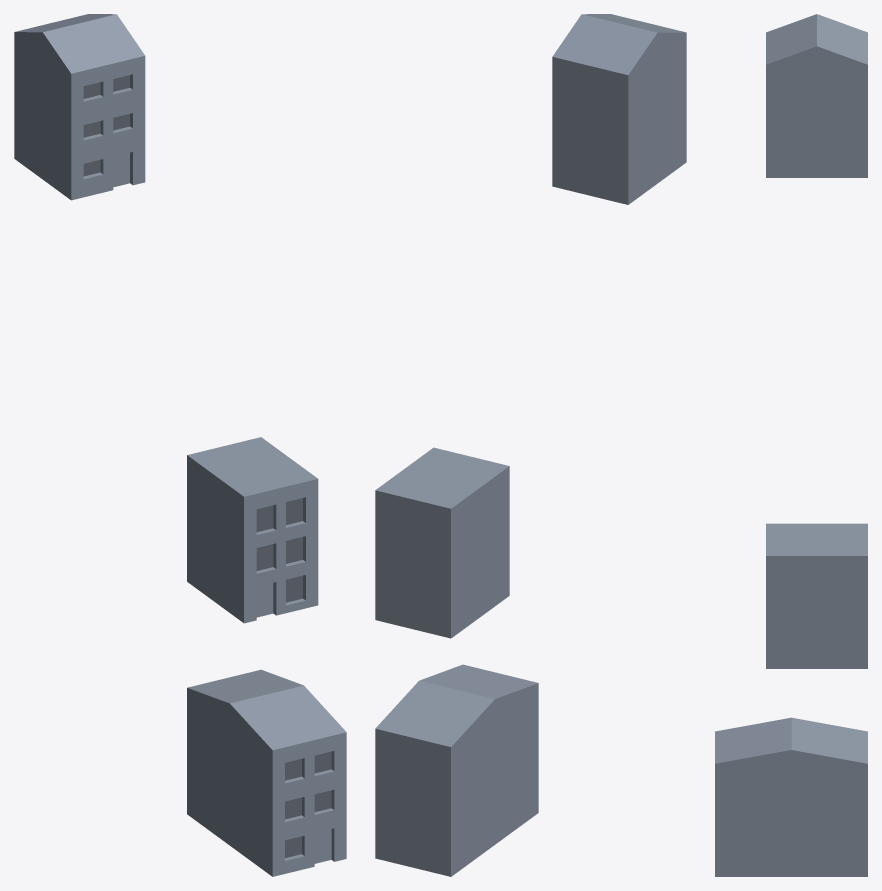
Rendered from BinaGrup4.gltf.
The picture shows the model from 3 angles, left to right: view 1: azimuth 30°, elevation 25°; view 2: azimuth 150°, elevation 25°; view 3: azimuth 270°, elevation 25°; orthographic projection. The views are drawn at different scales.
Visible parts, largest first — view 1: Building_080.014, Building_070.014, Building_079.014, Building_079.015, Building_080.015, Building_070.015; view 2: Building_080.014, Building_070.014, Building_079.014; view 3: Building_080.014, Building_070.014, Building_079.014.
Boxes of the visible parts, left/top/right/bottom form: Building_080.014: left=187, top=669, right=346, bottom=876; Building_070.014: left=14, top=14, right=145, bottom=200; Building_079.014: left=187, top=437, right=318, bottom=623; Building_079.015: left=256, top=498, right=302, bottom=602; Building_080.015: left=285, top=751, right=331, bottom=857; Building_070.015: left=83, top=75, right=129, bottom=176; Building_080.014: left=375, top=664, right=538, bottom=876; Building_070.014: left=552, top=14, right=686, bottom=204; Building_079.014: left=375, top=447, right=509, bottom=638; Building_080.014: left=715, top=717, right=867, bottom=876; Building_070.014: left=766, top=14, right=867, bottom=177; Building_079.014: left=766, top=523, right=867, bottom=668.
Size of the model in its own units: 0.1087 by 0.3554 by 0.0652.
